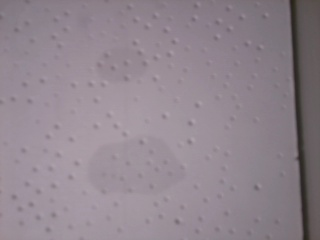Water_detected: (98, 132, 167, 189), (99, 40, 138, 79)
